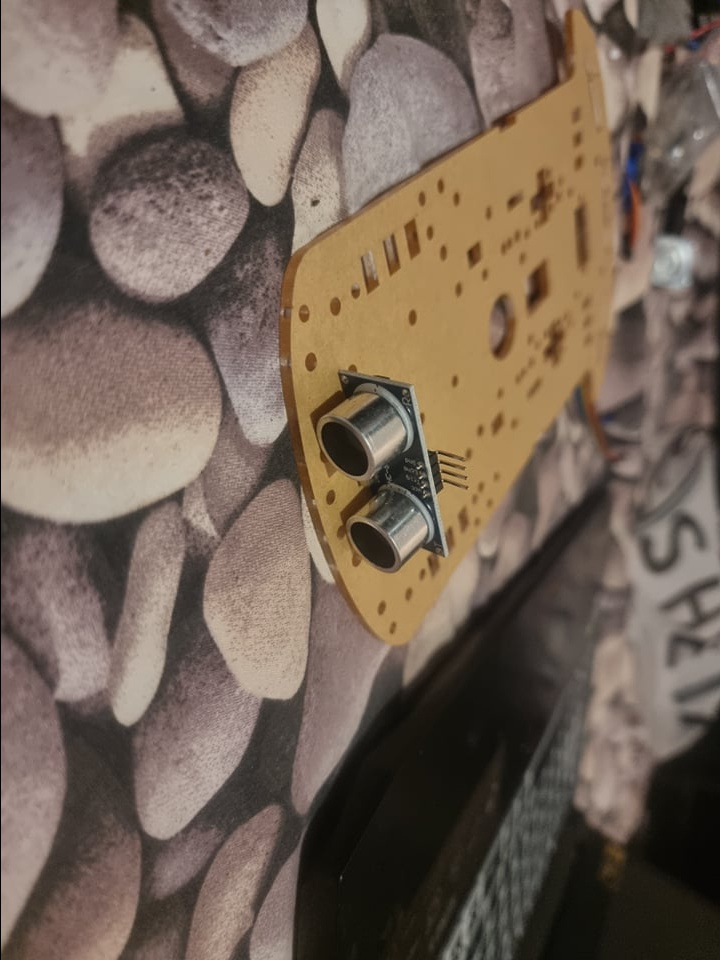SENSOR: (311, 378, 450, 577)
